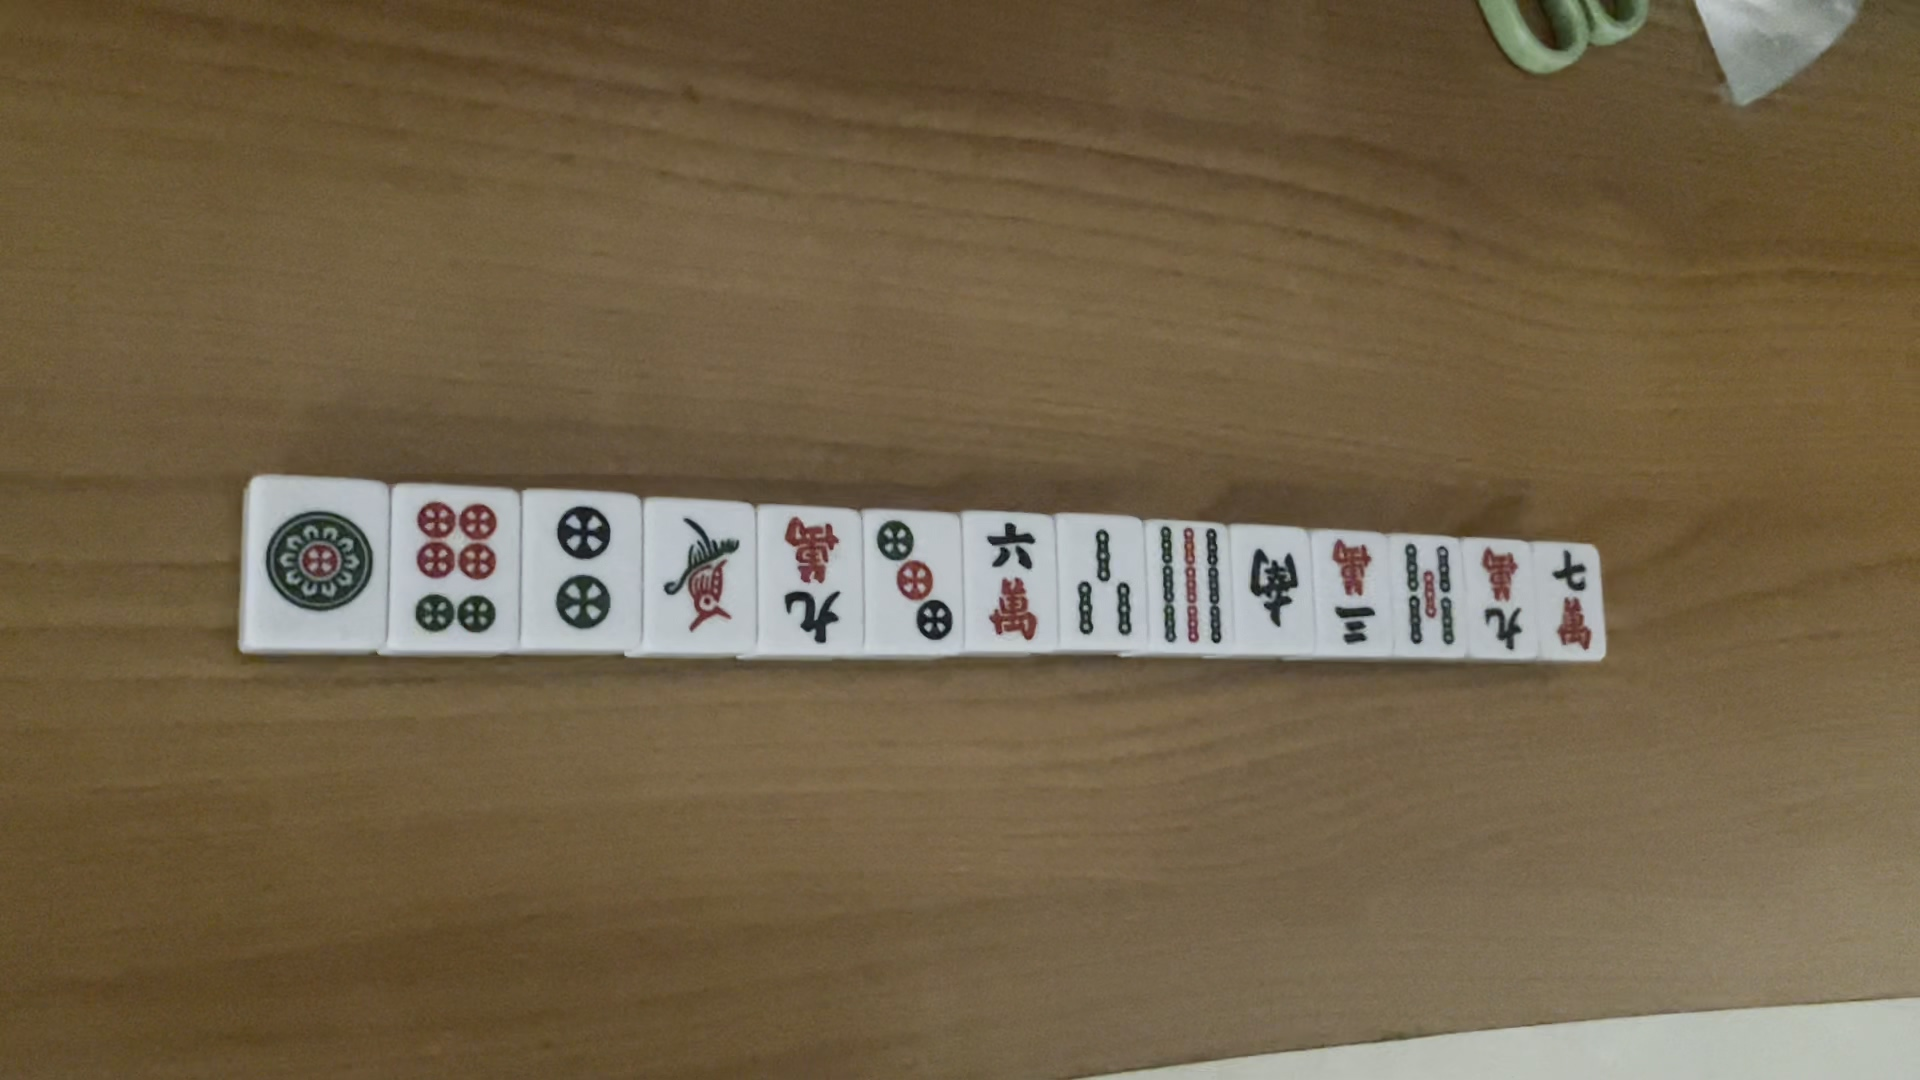b-1: (651, 505, 745, 636)
b-3: (1068, 527, 1138, 647)
b-5: (1396, 538, 1461, 651)
b-9: (1149, 522, 1226, 651)
c-3: (1323, 534, 1381, 655)
c-6: (981, 521, 1044, 644)
c-7: (1548, 551, 1602, 647)
c-9: (767, 512, 849, 647), (1472, 543, 1536, 651)
d-1: (252, 509, 373, 615)
d-2: (554, 492, 613, 633)
d-3: (873, 520, 957, 644)
d-6: (411, 491, 500, 638)
honors-south: (1241, 534, 1309, 637)
